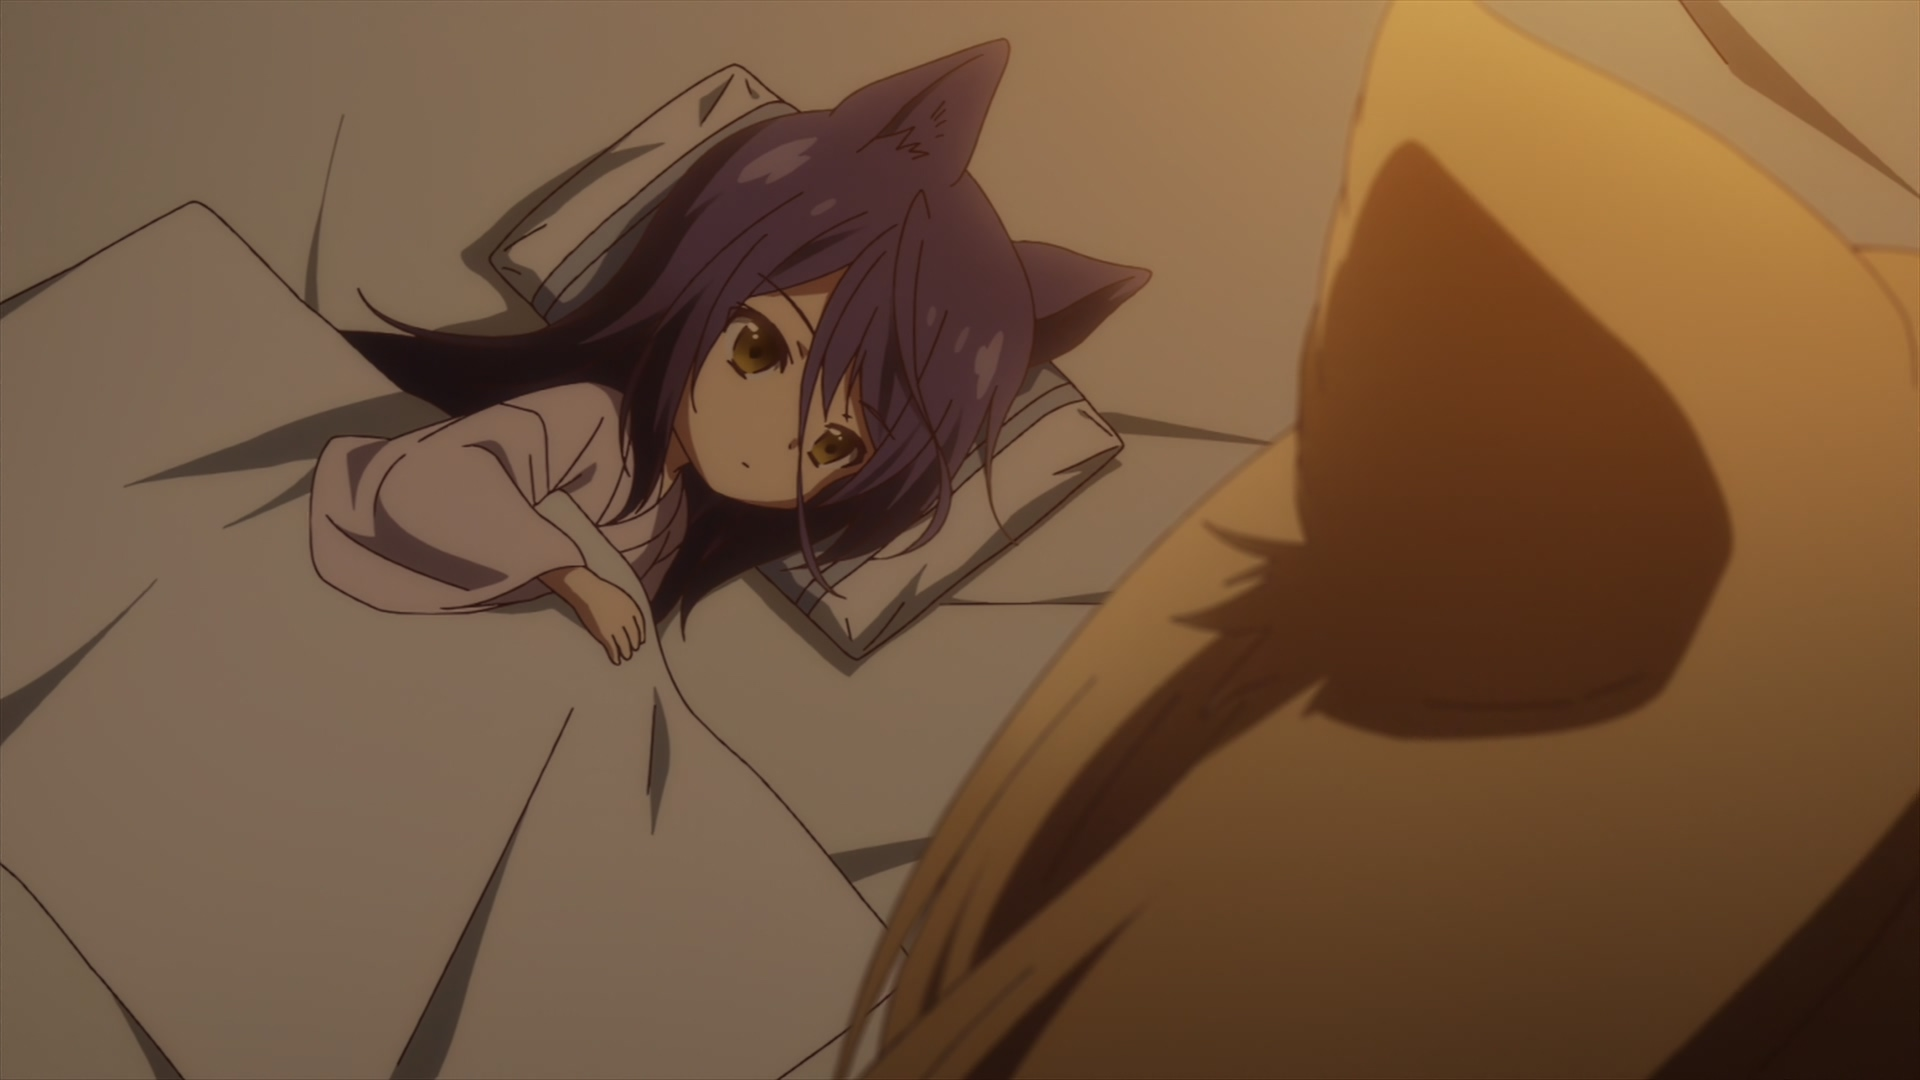柚: (837, 1, 1920, 1080)
皋: (309, 36, 1153, 669)
